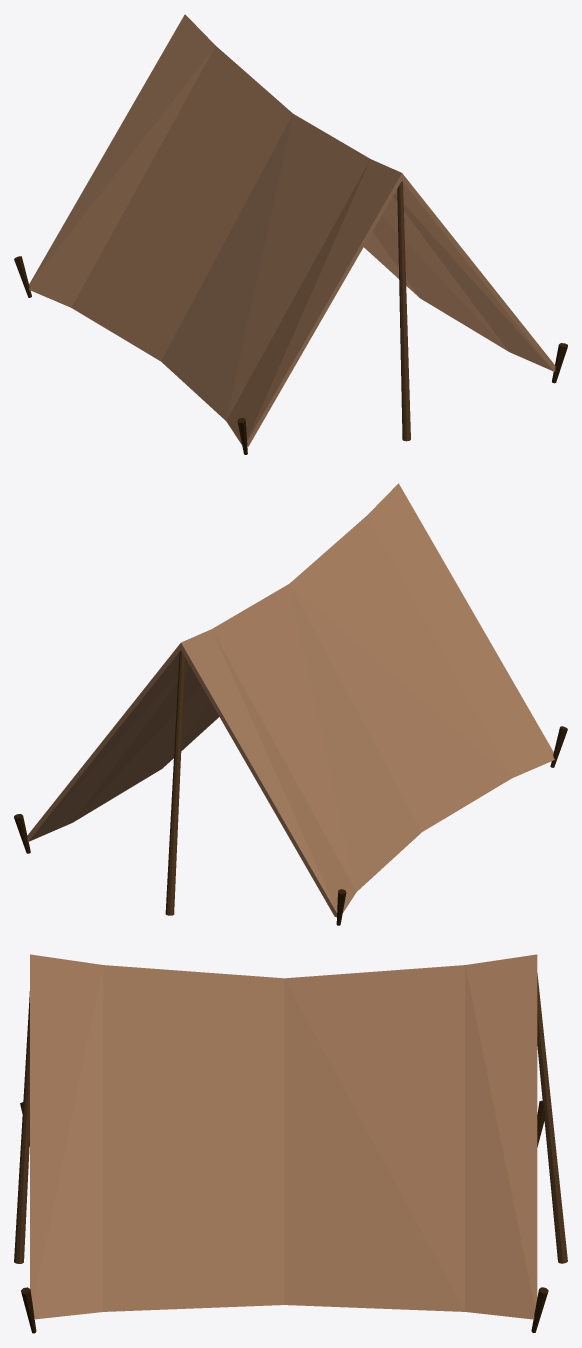
The model's file is Tent_2.fbx.
3 renders of one model, top to bottom at view 1: azimuth 30°, elevation 25°; view 2: azimuth 150°, elevation 25°; view 3: azimuth 270°, elevation 25°, orthographic. The views are drawn at different scales.
Visible parts, largest first — view 1: polySurface4, polySurface5; view 2: polySurface4, polySurface7; view 3: polySurface4, polySurface7, polySurface5.
Boxes of the visible parts, x1=… form: polySurface4: x1=29, y1=14, x2=555, y2=446; polySurface5: x1=397, y1=181, x2=410, y2=441; polySurface4: x1=27, y1=483, x2=554, y2=917; polySurface7: x1=165, y1=650, x2=185, y2=915; polySurface4: x1=30, y1=954, x2=537, y2=1319; polySurface7: x1=537, y1=973, x2=567, y2=1263; polySurface5: x1=14, y1=991, x2=29, y2=1263.
Size of the model in its own units: 8.81 by 6.69 by 10.92.
